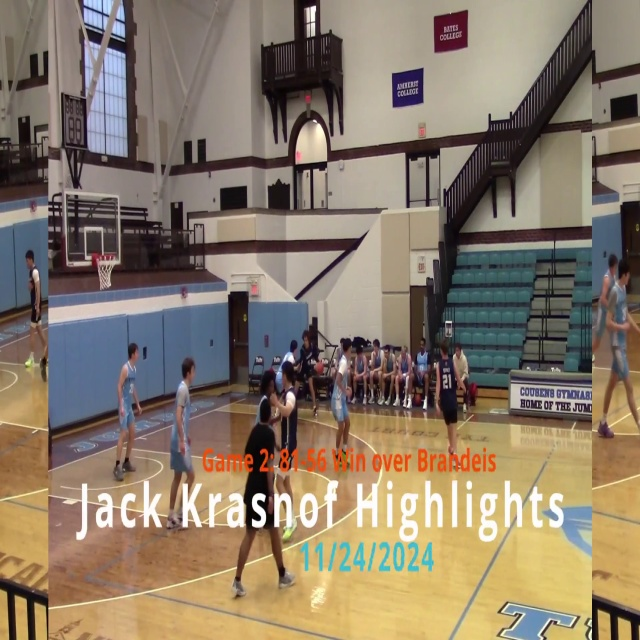Basketball: (280, 390, 296, 418), (24, 358, 33, 367), (345, 387, 352, 397)
